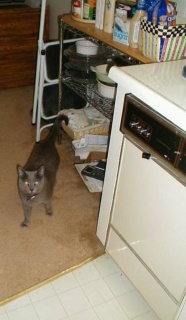Cat: (15, 112, 70, 224)
